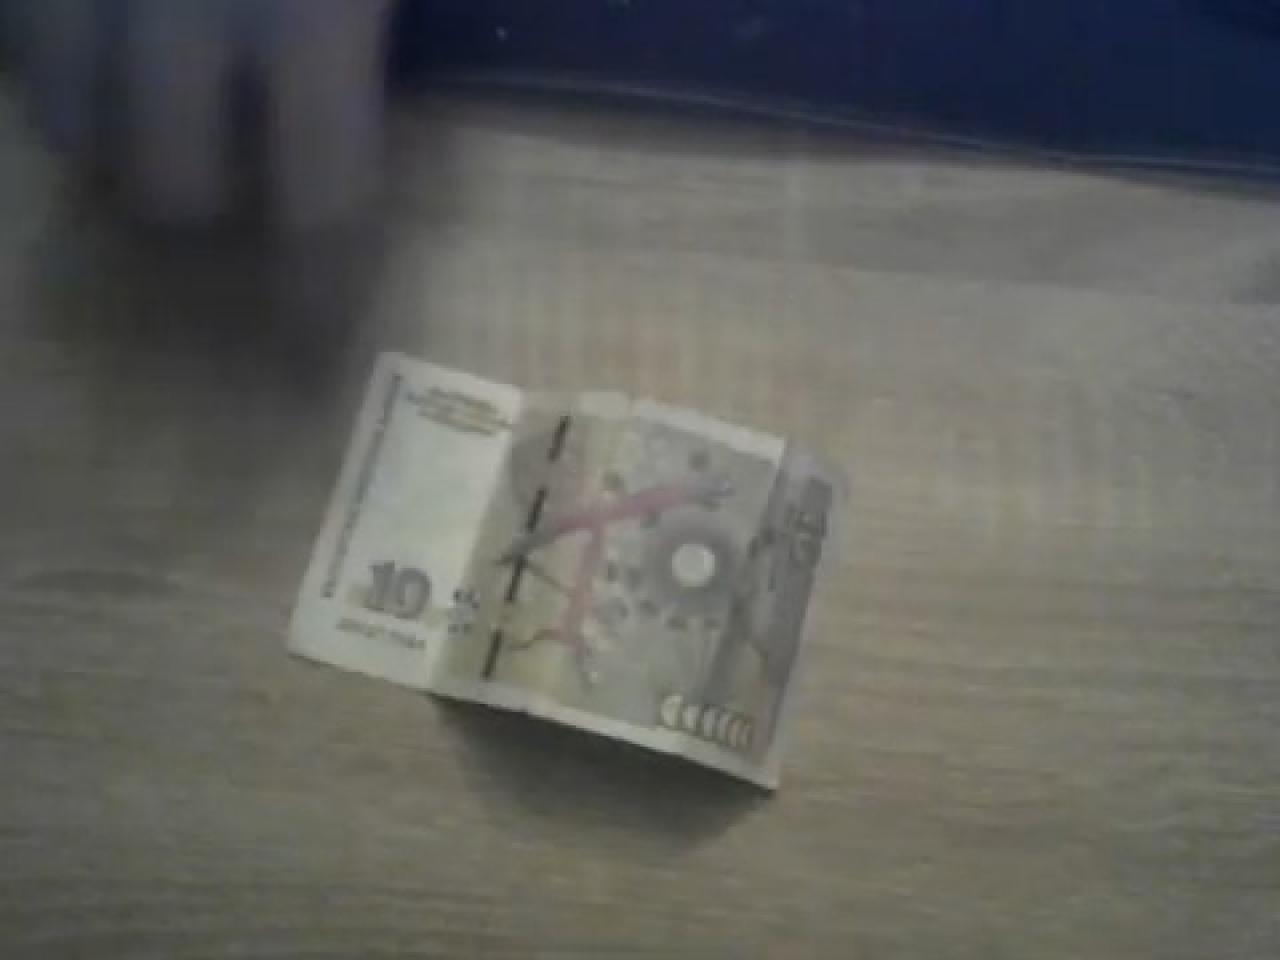10leva: (285, 352, 843, 792)
